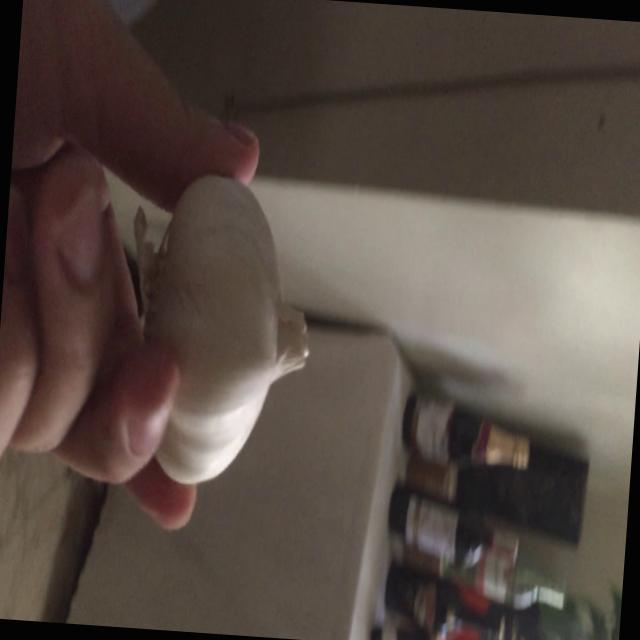garlic: (102, 165, 322, 495)
